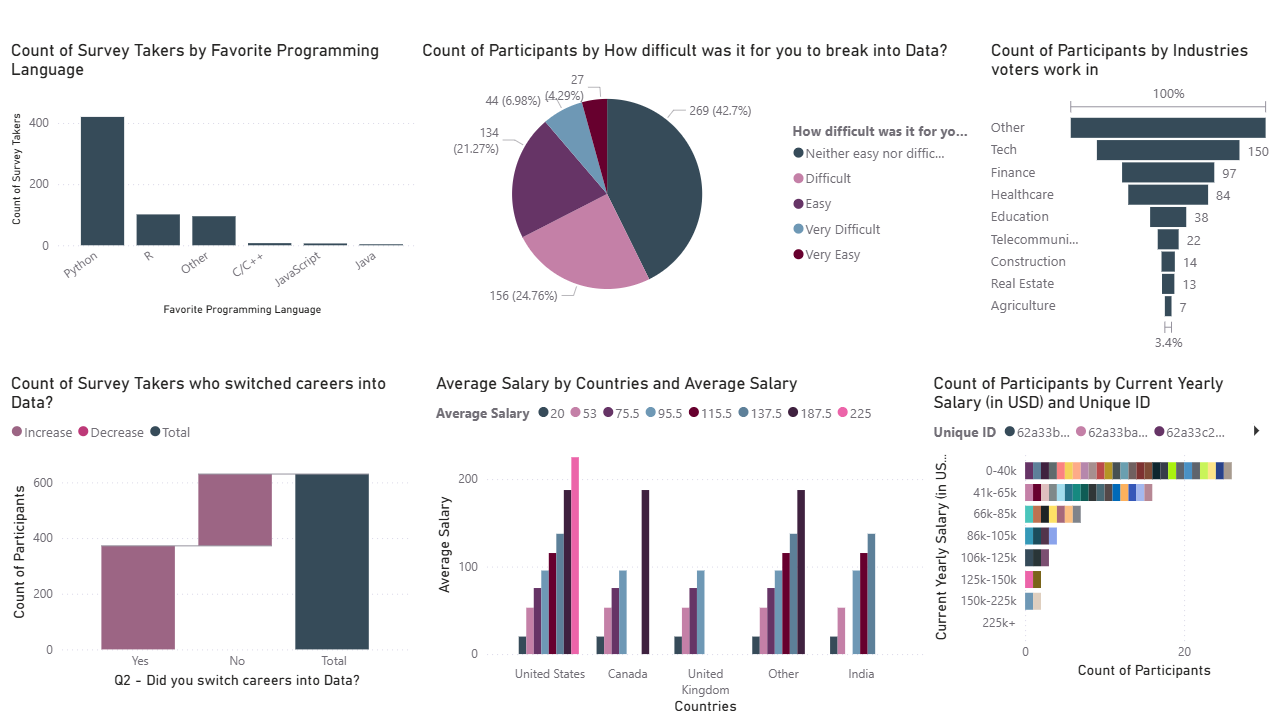

The dashboard page shown, as its layout file describes it:
{"tool":"powerbi","page":{"name":"Page 2","canvas":[1280,720],"ordinal":1},"visuals":[{"type":"clusteredColumnChart","fields":{"Category":["Data Professional Survey.Q5 - Favorite Programming Language.1"],"Y":["Count(Data Professional Survey.Unique ID)"]},"box":[9.8,41.6,425.5,280],"z":0},{"type":"waterfallChart","title":"Count of Survey Takers who  switched careers into Data?","fields":{"Category":["Data Professional Survey.Q2 - Did you switch careers into Data?"],"Y":["CountNonNull(Data Professional Survey.Unique ID)"]},"box":[9.8,374.2,410.9,320.4],"z":1000},{"type":"pieChart","fields":{"Category":["Data Professional Survey.Q7 - How difficult was it for you to break into Data?"],"Y":["CountNonNull(Data Professional Survey.Unique ID)"]},"box":[420.7,41.6,555.2,288.6],"z":2000},{"type":"clusteredColumnChart","fields":{"Category":["Data Professional Survey.Q11 - Which Country do you live in?.1"],"Y":["Avg(Data Professional Survey.Average Salary)"],"Series":["Data Professional Survey.Average Salary"]},"box":[435.3,374.2,497.7,346.1],"z":3000},{"type":"funnel","fields":{"Category":["Data Professional Survey.Q4 - What Industry do you work in?.1"],"Y":["CountNonNull(Data Professional Survey.Unique ID)"]},"box":[990.5,41.6,289.8,315.5],"z":3001},{"type":"barChart","fields":{"Category":["Data Professional Survey.Q3 - Current Yearly Salary (in USD)"],"Y":["CountNonNull(Data Professional Survey.Unique ID)"],"Series":["Data Professional Survey.Unique ID"]},"box":[933,374.2,347.3,310.6],"z":3002}]}

Visuals, with their boxes in screenshot pixels (x1, y1, x2, y2), scaled from the page's 1280x720 canvas onto the 1271x715 screenshot:
clusteredColumnChart - Data Professional Survey.Q5 - Favorite Programming Language.1 x Count(Data Professional Survey.Unique ID): BBox(10, 41, 432, 319)
"Count of Survey Takers who  switched careers into Data?" waterfallChart: BBox(10, 372, 418, 690)
pieChart - Data Professional Survey.Q7 - How difficult was it for you to break into Data? x CountNonNull(Data Professional Survey.Unique ID): BBox(418, 41, 969, 328)
clusteredColumnChart - Data Professional Survey.Q11 - Which Country do you live in?.1 x Avg(Data Professional Survey.Average Salary): BBox(432, 372, 926, 714)
funnel - Data Professional Survey.Q4 - What Industry do you work in?.1 x CountNonNull(Data Professional Survey.Unique ID): BBox(984, 41, 1270, 355)
barChart - Data Professional Survey.Q3 - Current Yearly Salary (in USD) x CountNonNull(Data Professional Survey.Unique ID): BBox(926, 372, 1270, 680)
